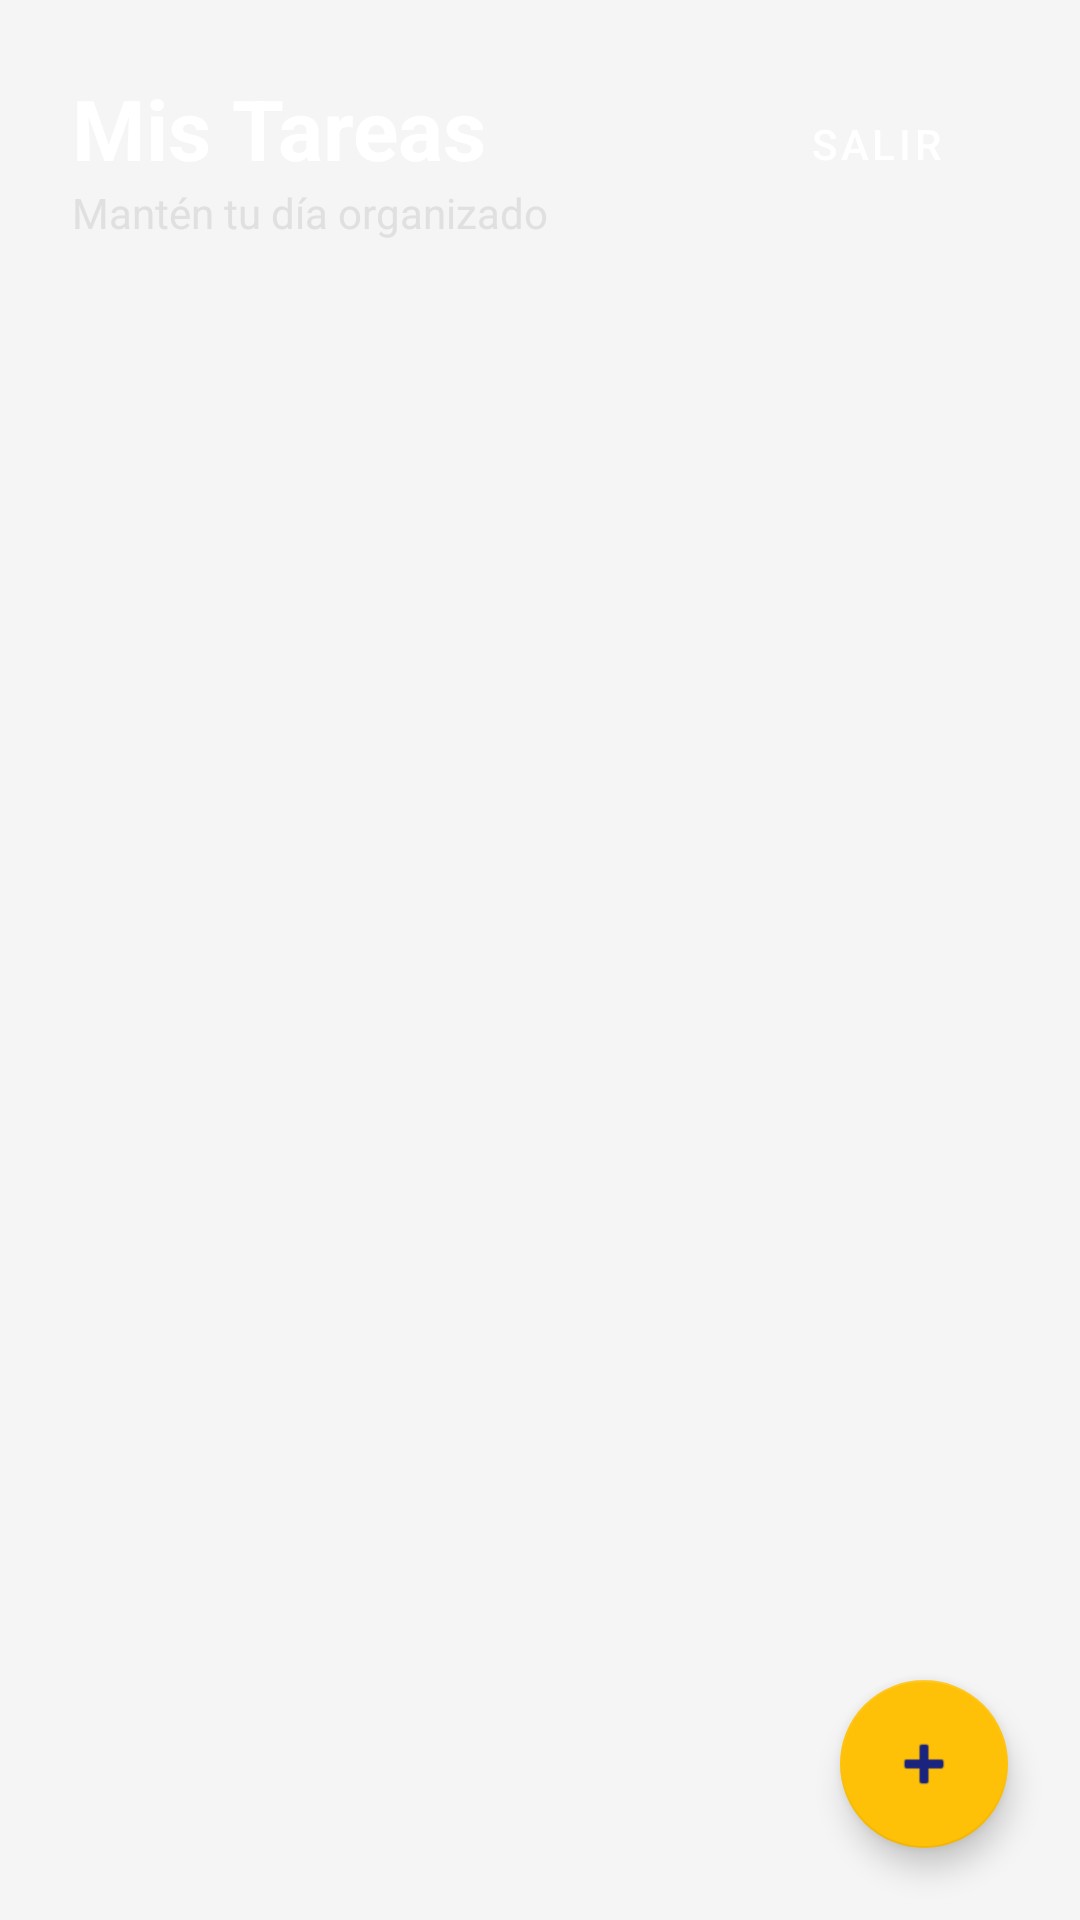

Icons on this 1080 × 1920 Android screen, each with the point to tap as (x=x, y=y):
Agregar tarea: (x=924, y=1764)
